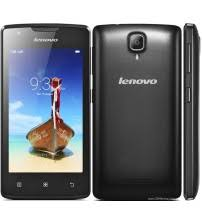lenovo: (92, 19, 184, 205), (1, 17, 92, 203)
